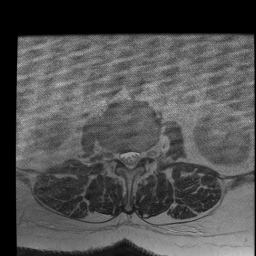CCS_normal: (127, 144, 134, 175)
LFS_normal: (140, 143, 148, 166)
LLS_normal: (133, 144, 140, 170)
RFS_normal: (111, 143, 118, 168)
RLS_normal: (119, 145, 126, 171)
